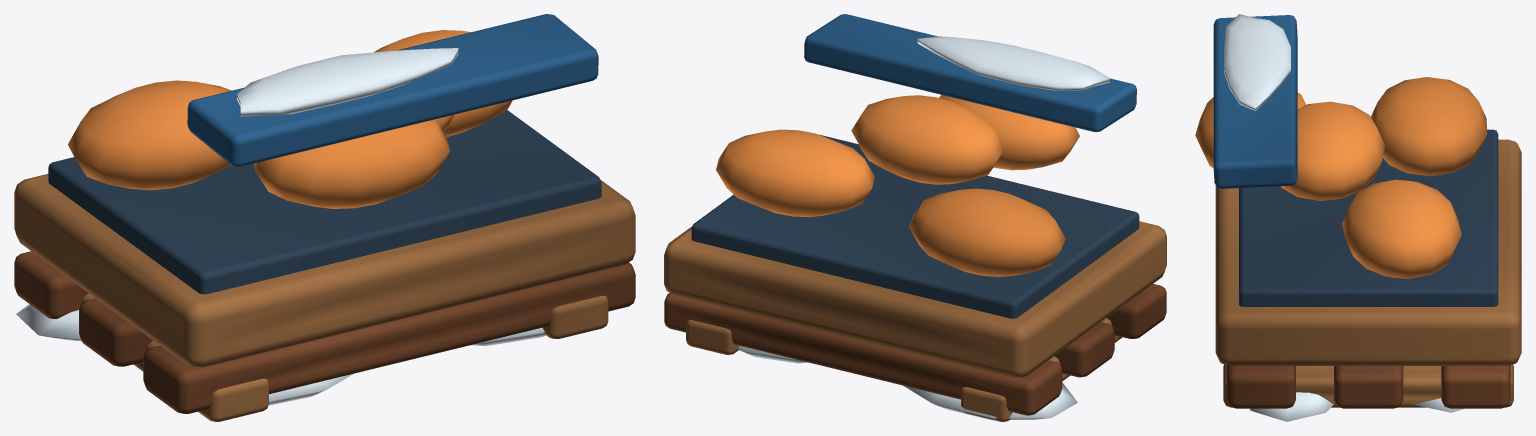
File: cooked_food_stack.glb
3 renders of one model, left to right at view 1: azimuth 30°, elevation 25°; view 2: azimuth 150°, elevation 25°; view 3: azimuth 270°, elevation 25°, orthographic. The views are drawn at different scales.
Visible parts, largest first — view 1: cooked_food_stack; view 2: cooked_food_stack; view 3: cooked_food_stack.
Boxes of the visible parts, box(x1,y1,x2,y2) form: cooked_food_stack: box(14, 14, 635, 421); cooked_food_stack: box(664, 14, 1166, 421); cooked_food_stack: box(1195, 14, 1521, 421).
Bounding box in the file's own units: 1.4 × 0.891 × 0.9812.
